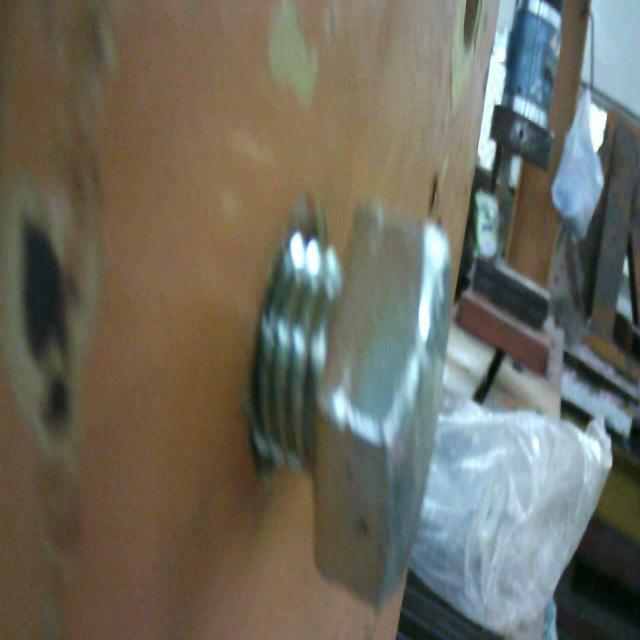Loose bolt: (252, 191, 454, 607)
Regular bolt: (262, 201, 446, 611)
